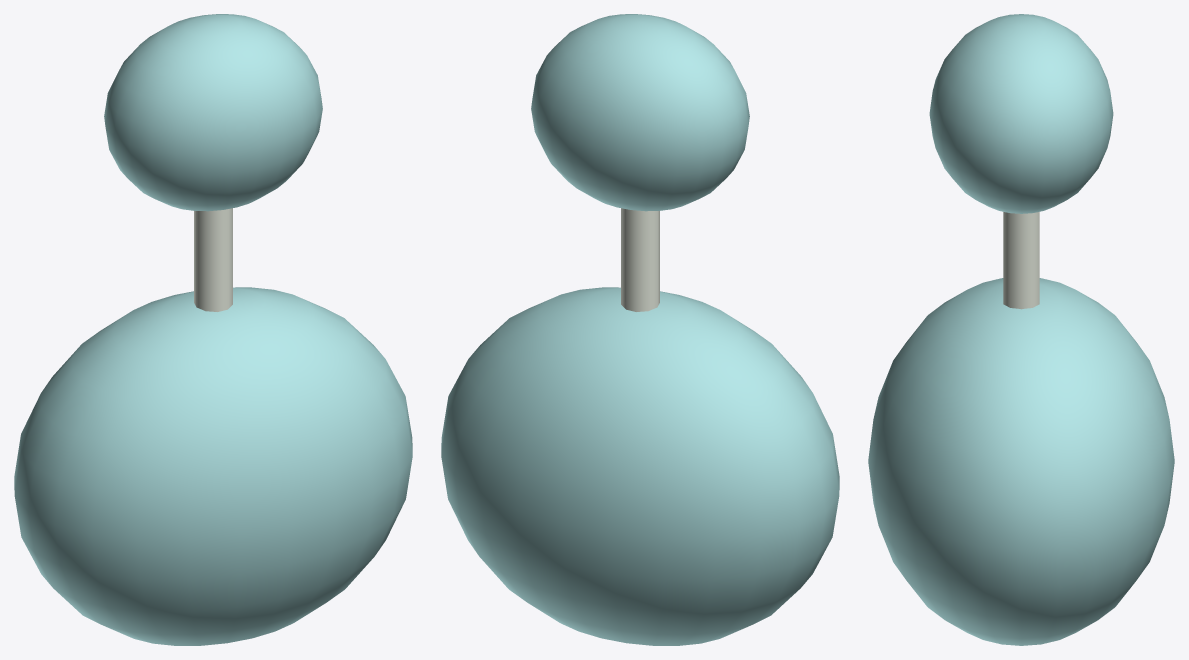
File: cyclicSighing.glb
3 renders of one model, left to right at view 1: azimuth 30°, elevation 25°; view 2: azimuth 150°, elevation 25°; view 3: azimuth 270°, elevation 25°, orthographic.
Visible parts, largest first — view 1: main_shell, top_shell, connection; view 2: main_shell, top_shell, connection; view 3: main_shell, top_shell, connection.
Boxes of the visible parts, x1=… form: main_shell: x1=14, y1=287, x2=412, y2=645; top_shell: x1=104, y1=14, x2=322, y2=211; connection: x1=194, y1=208, x2=232, y2=311; main_shell: x1=441, y1=287, x2=839, y2=645; top_shell: x1=531, y1=14, x2=749, y2=211; connection: x1=621, y1=208, x2=659, y2=311; main_shell: x1=868, y1=278, x2=1174, y2=645; top_shell: x1=929, y1=14, x2=1113, y2=213; connection: x1=1003, y1=212, x2=1039, y2=309.
Bounding box in the file's own units: 1.64 × 2.58 × 1.2.
